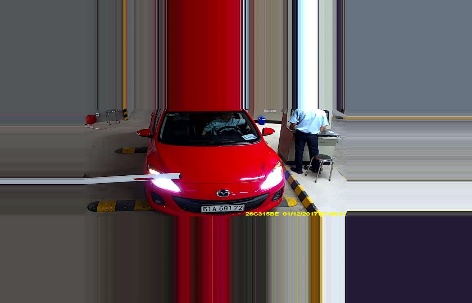plate: (201, 203, 246, 213)
